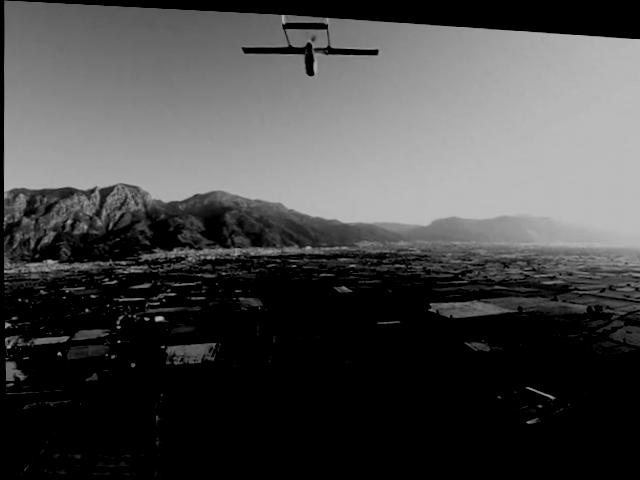hedef: (231, 9, 388, 107)
